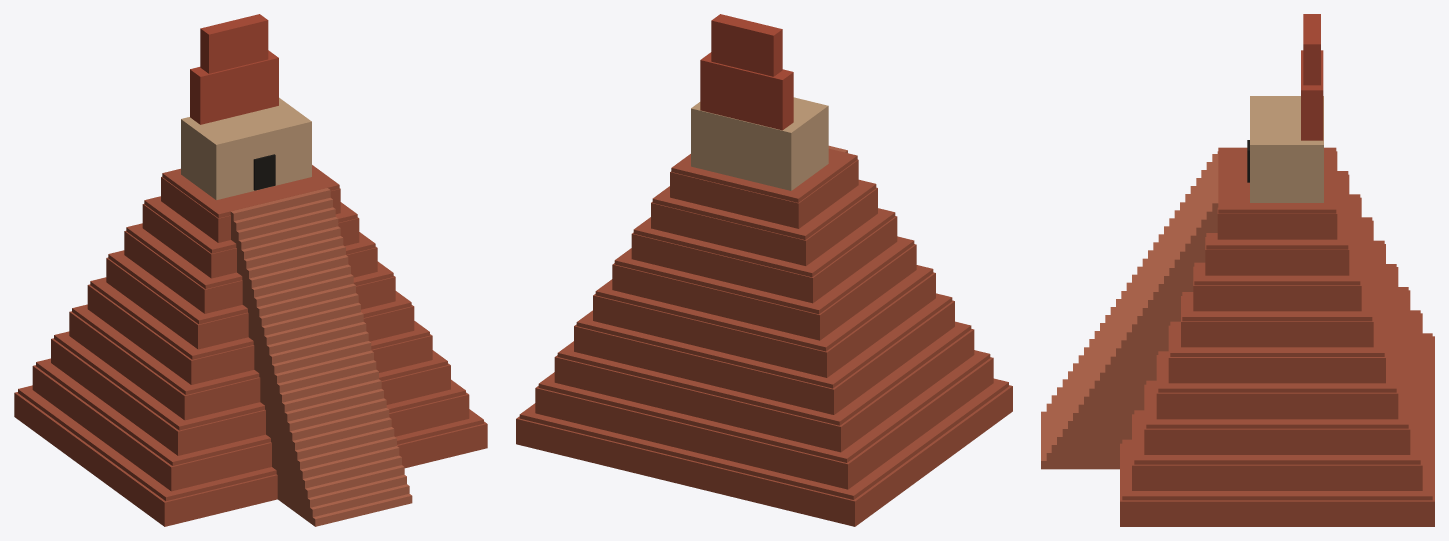
File: meso-tikal-t1.glb
3 views of the same model, side by side, from view 1: azimuth 30°, elevation 25°; view 2: azimuth 150°, elevation 25°; view 3: azimuth 270°, elevation 25° (orthographic). The views are drawn at different scales.
Parts seen in each view (by area): view 1: meso-body, meso-stair, meso-shrine, meso-comb, meso-door; view 2: meso-body, meso-shrine, meso-comb; view 3: meso-body, meso-stair, meso-shrine, meso-comb.
Part boxes in pixels (left/top/right/bottom): meso-body: left=14, top=165, right=487, bottom=526; meso-stair: left=230, top=188, right=412, bottom=526; meso-shrine: left=181, top=97, right=311, bottom=200; meso-comb: left=190, top=14, right=278, bottom=124; meso-door: left=253, top=154, right=275, bottom=190; meso-body: left=516, top=148, right=1012, bottom=526; meso-shrine: left=691, top=97, right=828, bottom=190; meso-comb: left=700, top=14, right=793, bottom=130; meso-body: left=1120, top=147, right=1434, bottom=526; meso-stair: left=1041, top=154, right=1218, bottom=469; meso-shrine: left=1250, top=96, right=1323, bottom=202; meso-comb: left=1301, top=14, right=1323, bottom=140.
Bounding box in the file's own units: 40.1 × 47 × 40.41.
